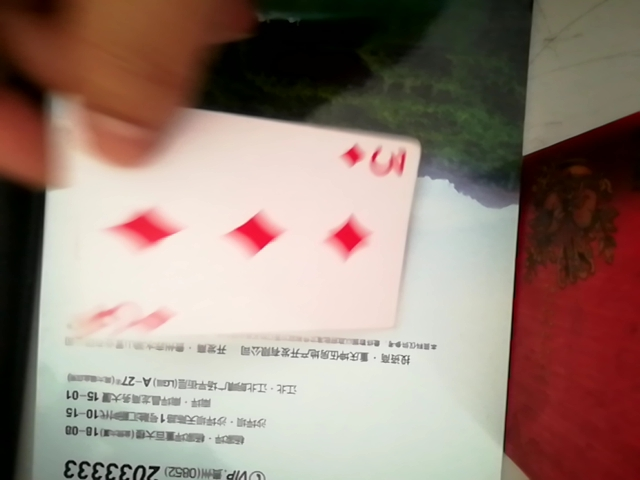fk 3: (60, 106, 430, 352)
